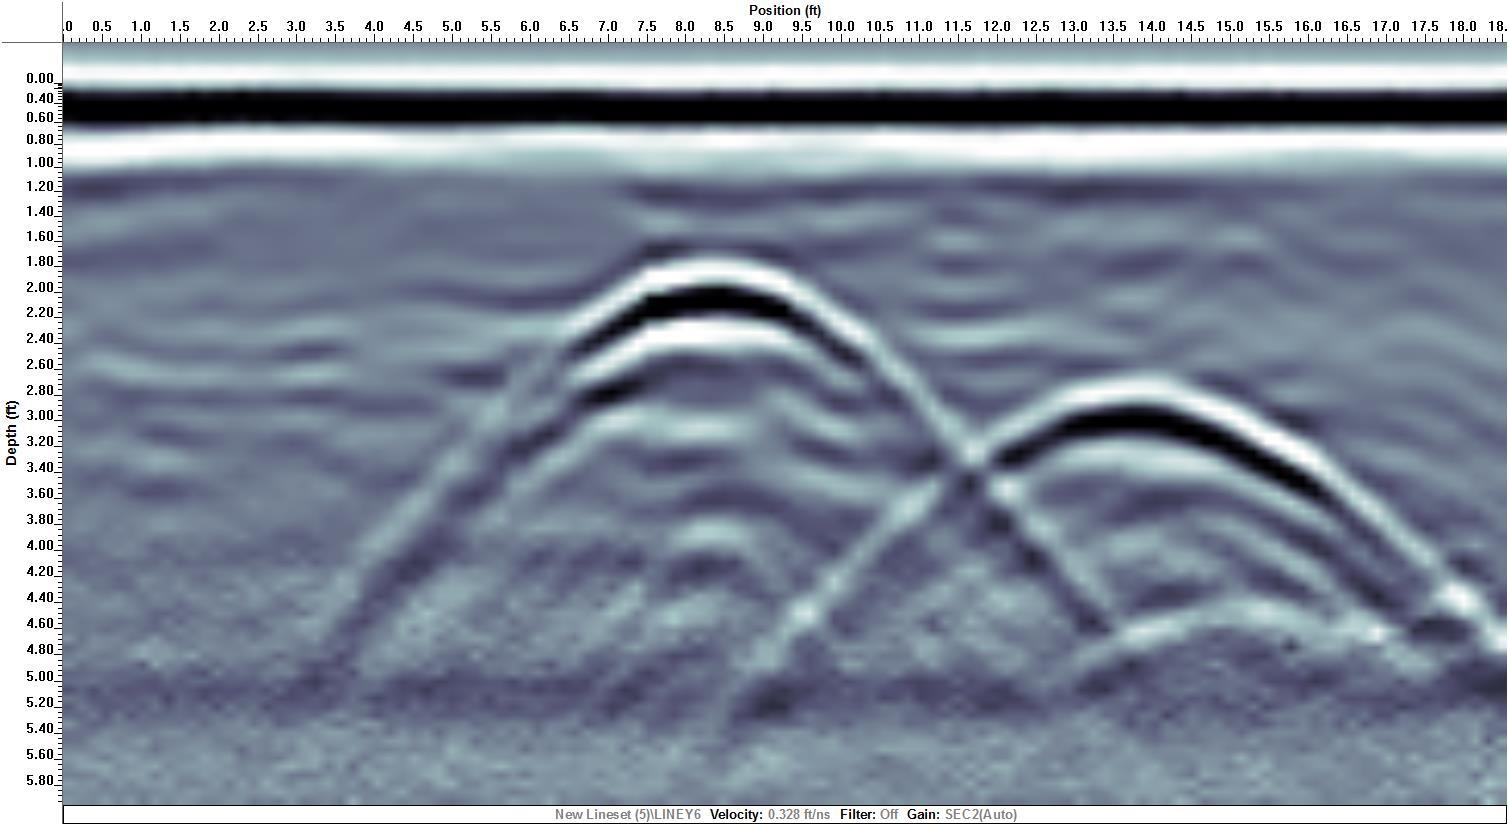hyperbola: (915, 354, 1417, 562), (502, 231, 939, 427)
